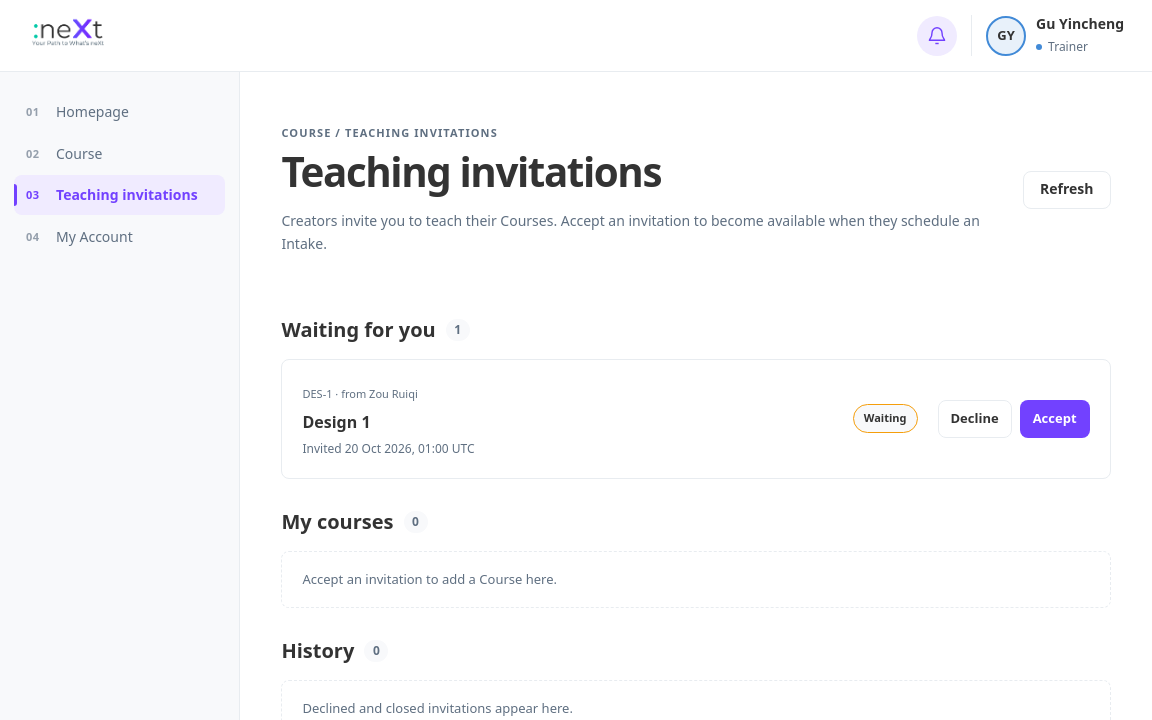
Test: keeps a failed answer in place and explains why
The width and height of the screenshot is (1152, 720).
Step 1. Click the button "Accept" → (1055,419), box [1020,400,1090,438]
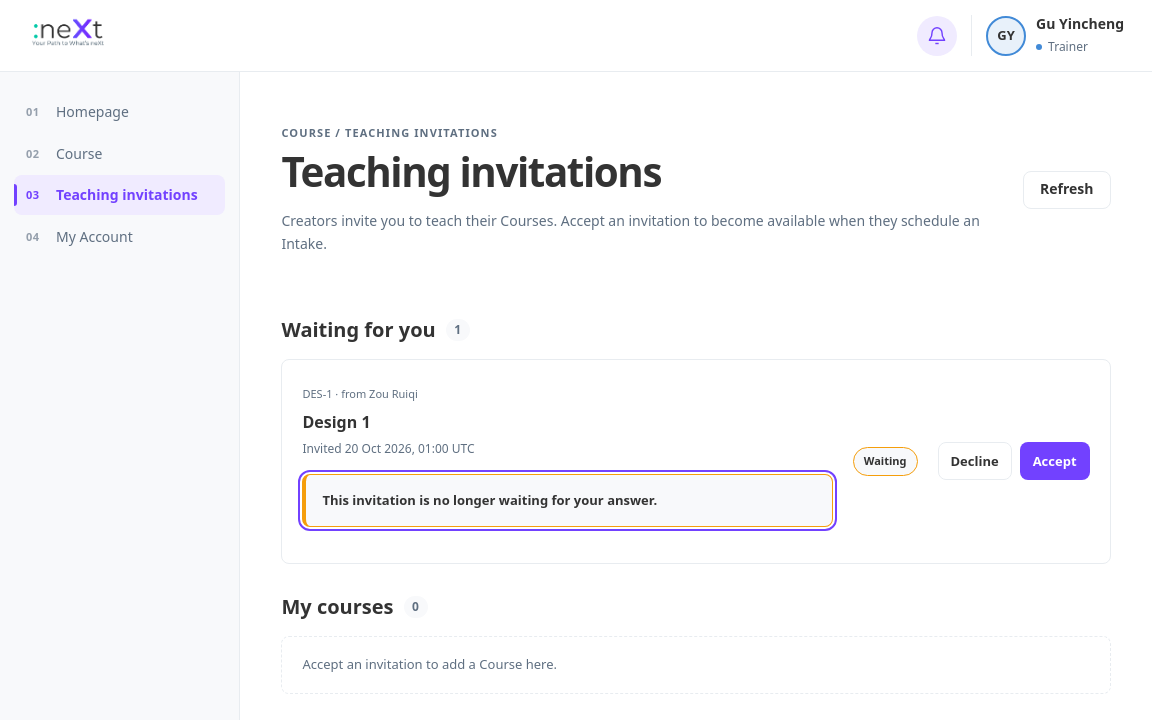
Check: the heading "Design 1" is shown, box [302,411,371,433]
Check: the message reads "This invitation is no longer waiting for your answer.", box [322,491,657,509]
